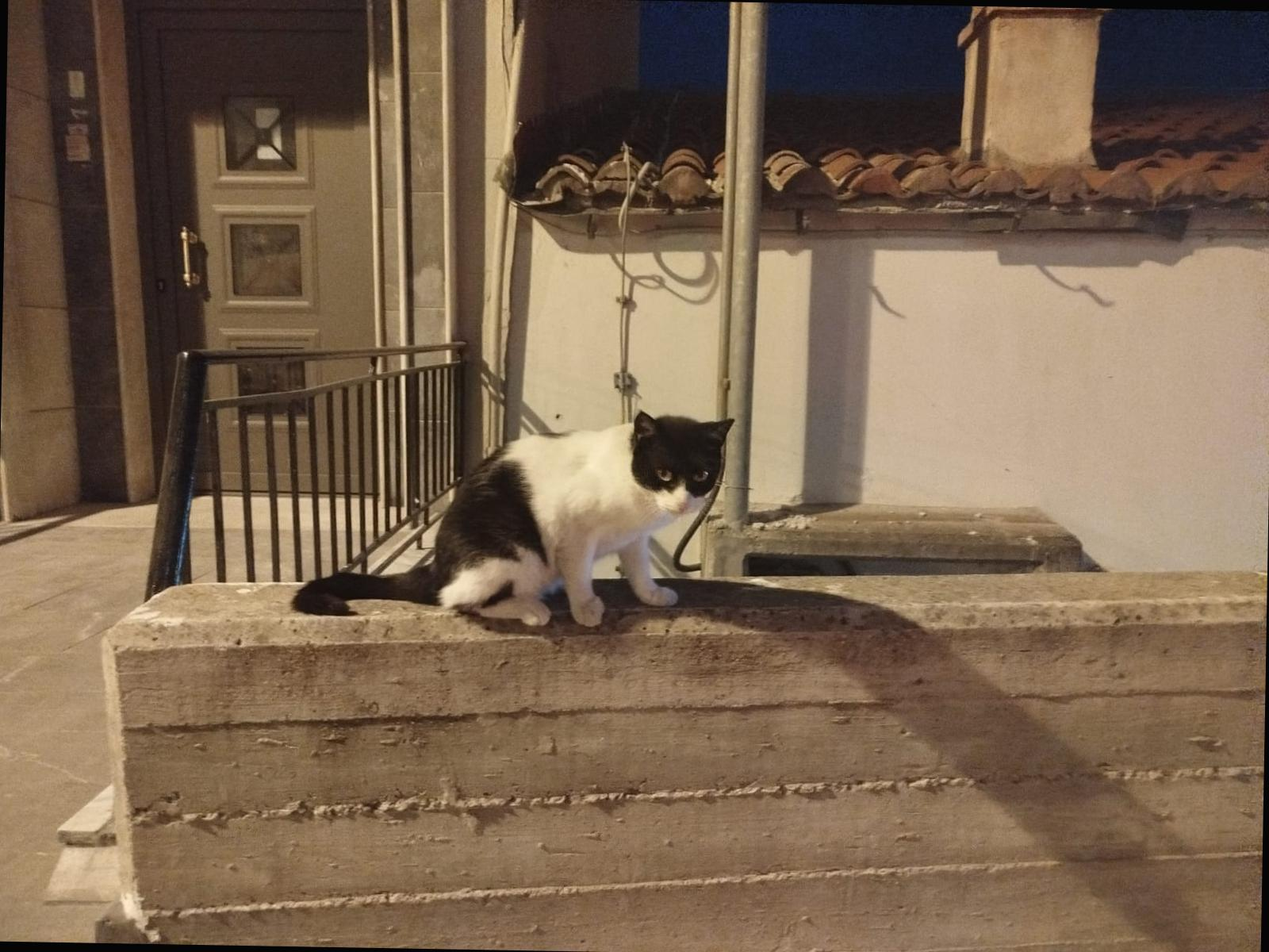macka: (293, 405, 735, 630)
